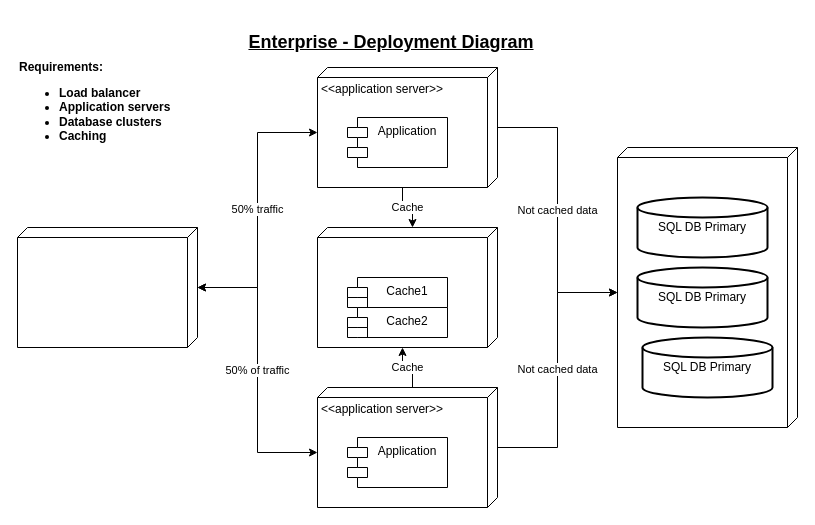
Image size: 815x525. Some labels were removed from this diagram. Here are the shapes that lost their labels. From the top down, the box of each, then its label:
(16, 226, 198, 348): <<load balancer>>
(316, 226, 498, 348): <<cache cluster>>
(616, 146, 798, 428): <<Database Cluster>>
